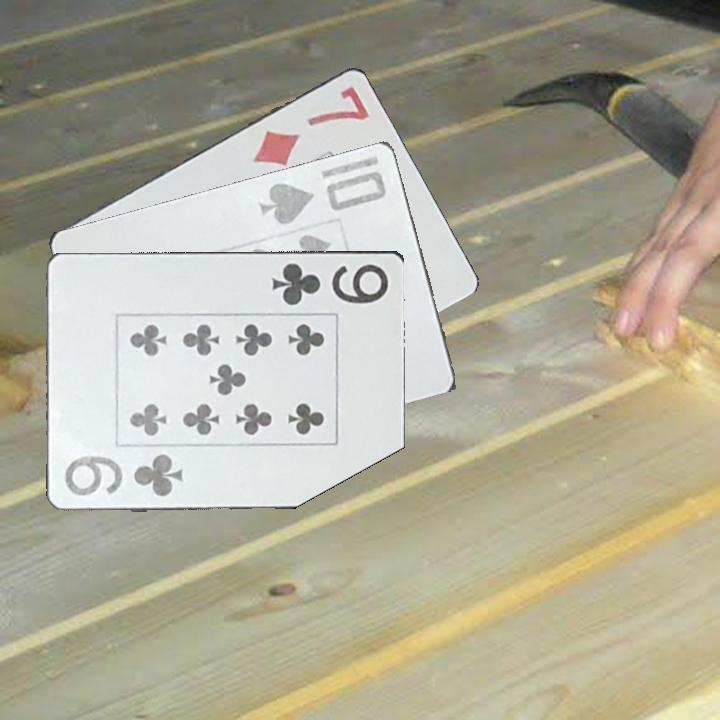7d: (249, 82, 372, 169)
9c: (62, 450, 187, 499), (268, 259, 392, 308)
Ts: (256, 167, 390, 228)
